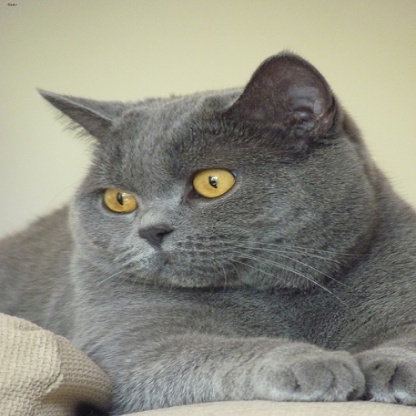british_shorthair: (3, 52, 411, 416)
